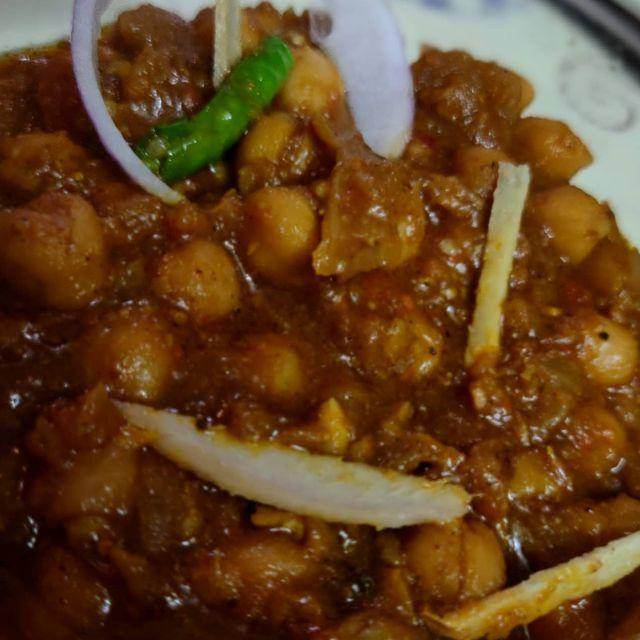Chole: (0, 18, 620, 592)
